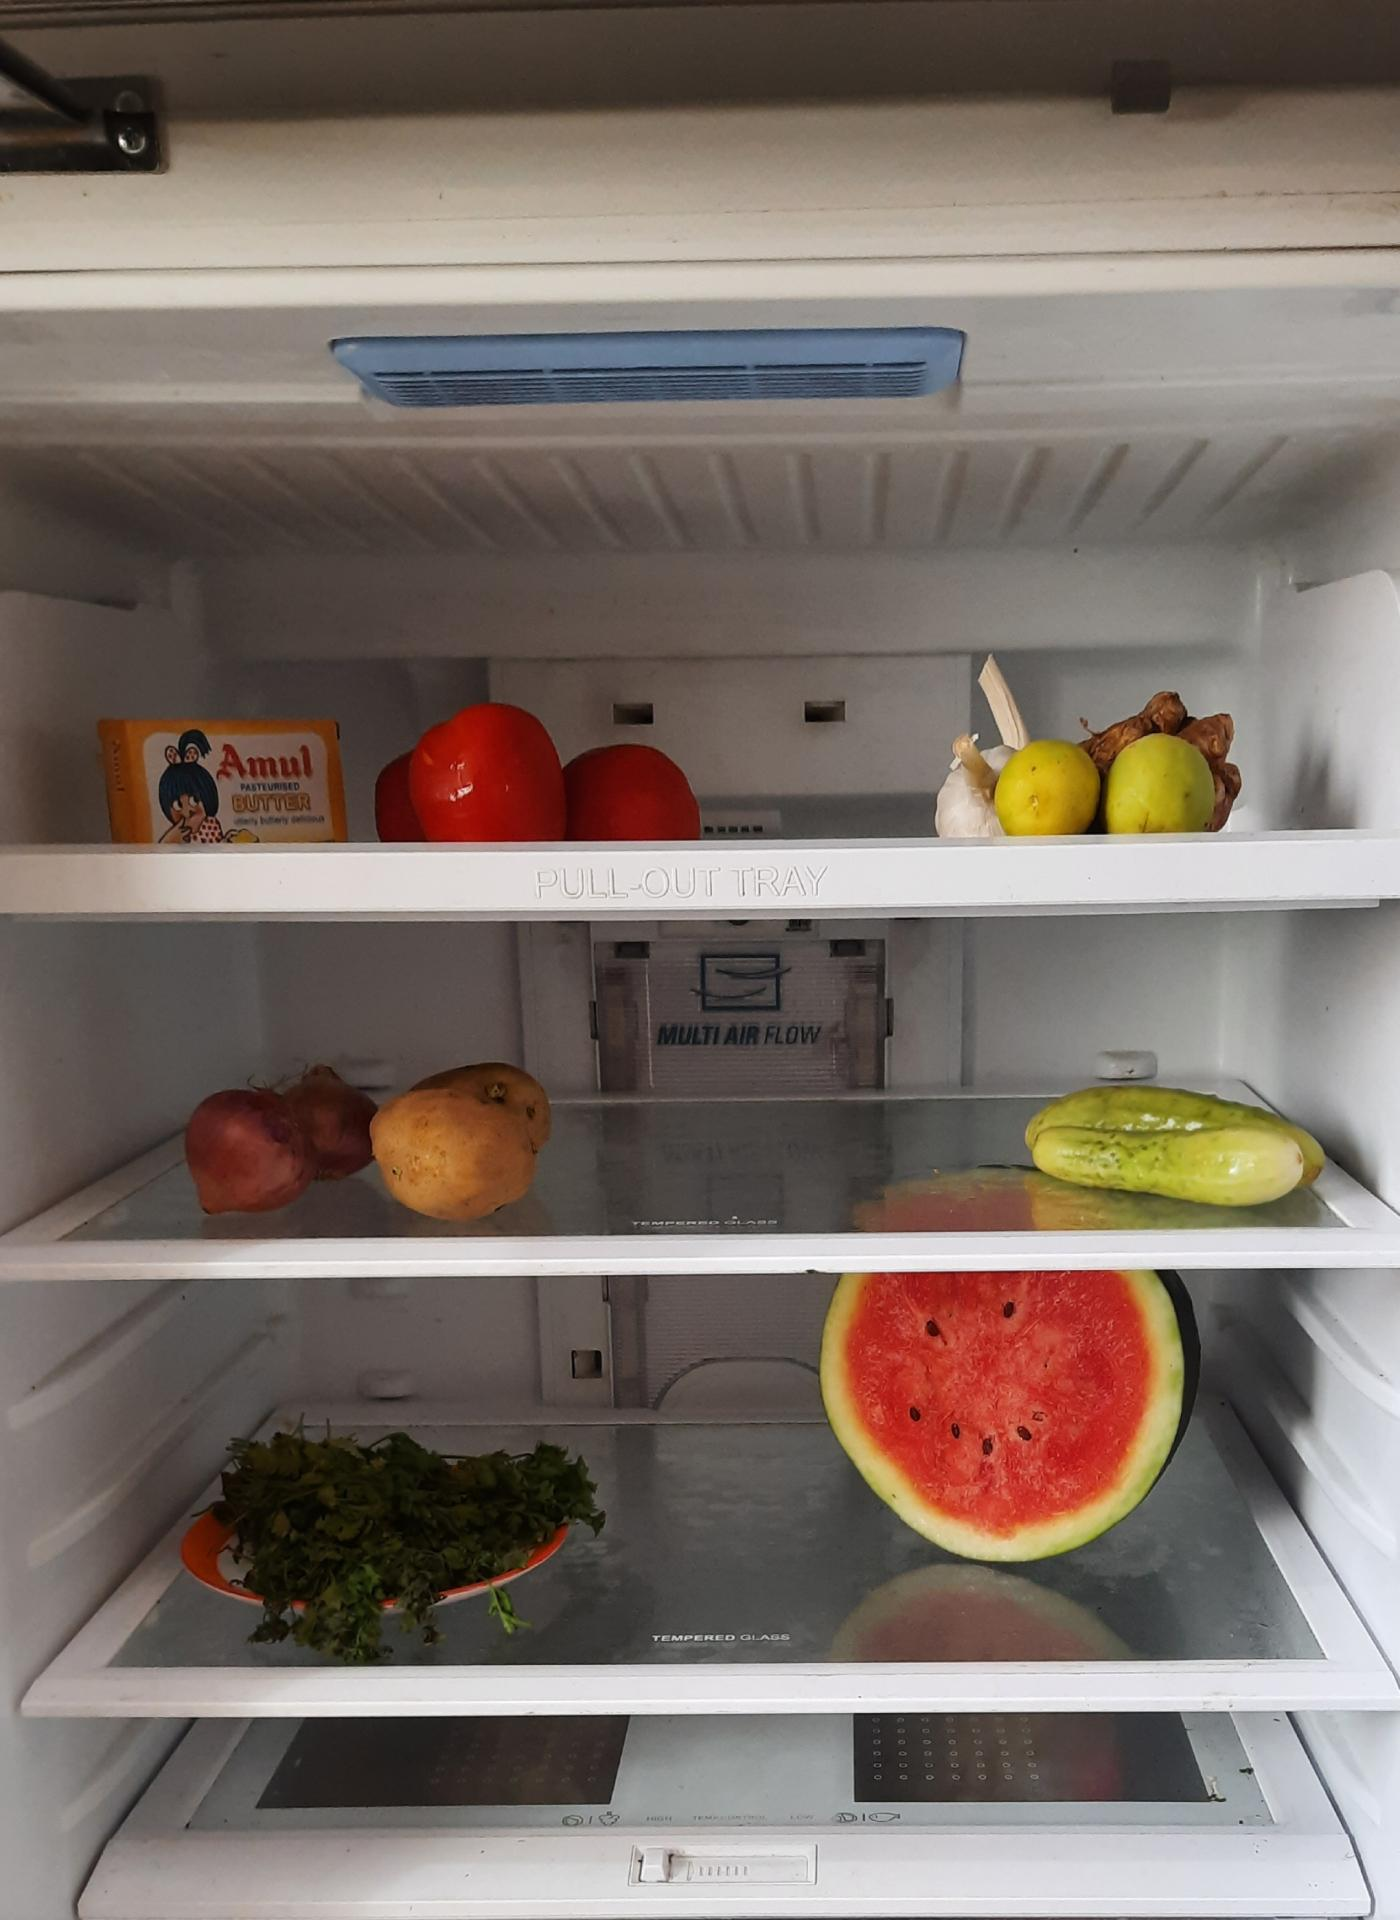butter: (98, 702, 347, 847)
coriander: (194, 1394, 613, 1662)
cucumber: (1017, 1085, 1336, 1203)
garlic: (935, 653, 1033, 845)
ginger: (1091, 686, 1242, 768)
lemon: (993, 738, 1218, 845)
onion: (188, 1049, 376, 1204)
potato: (373, 1049, 556, 1210)
tomato: (383, 692, 698, 832)
watermelon: (811, 1178, 1187, 1567)
